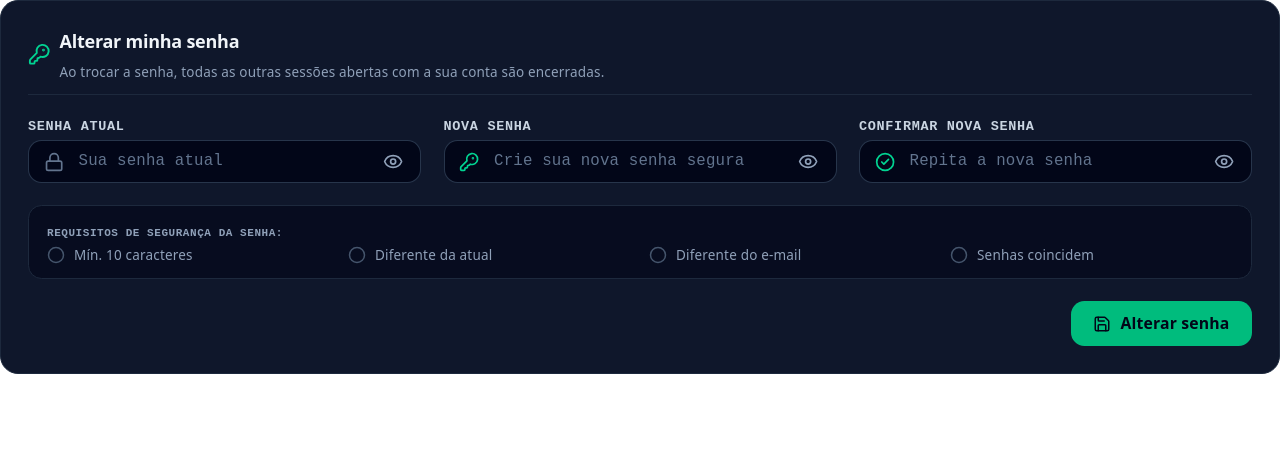
Test: AlterarSenha › valida antes de enviar
Type "senha-antiga-123" into the password field labelled "Senha atual".
click(224, 162); type("senha-antiga-123")  # box [28,140,421,183]
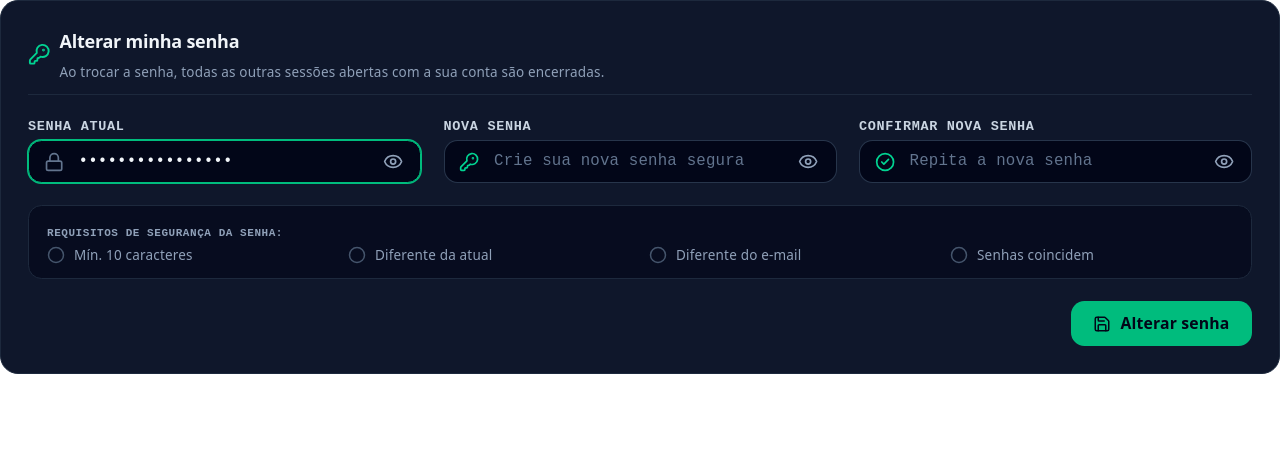
Type "curta" into the password field labelled "Nova senha".
click(640, 162); type("curta")  # box [444,140,836,183]
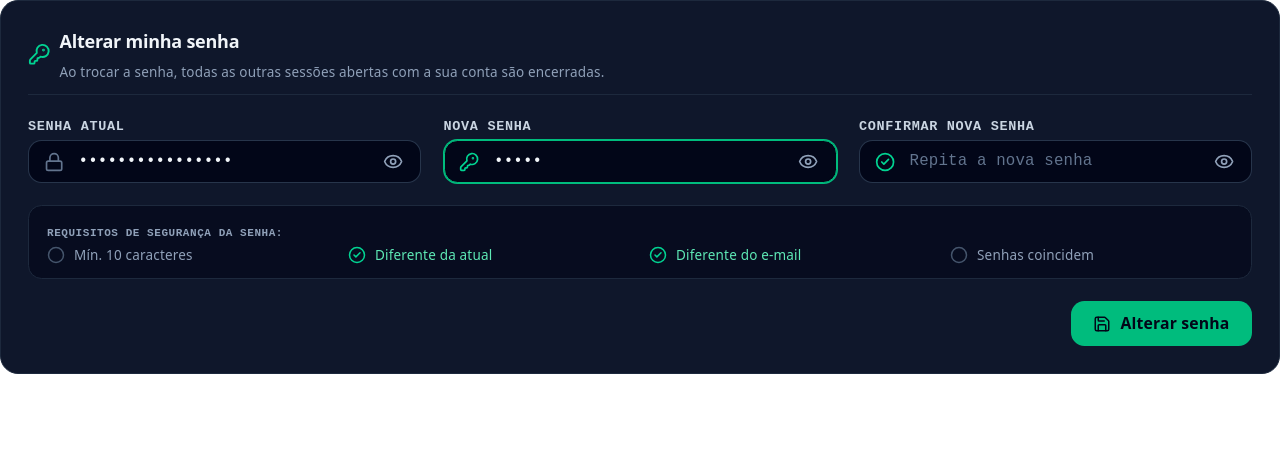
Type "curta" into the password field labelled "Confirmar nova senha".
click(1056, 162); type("curta")  # box [859,140,1252,183]
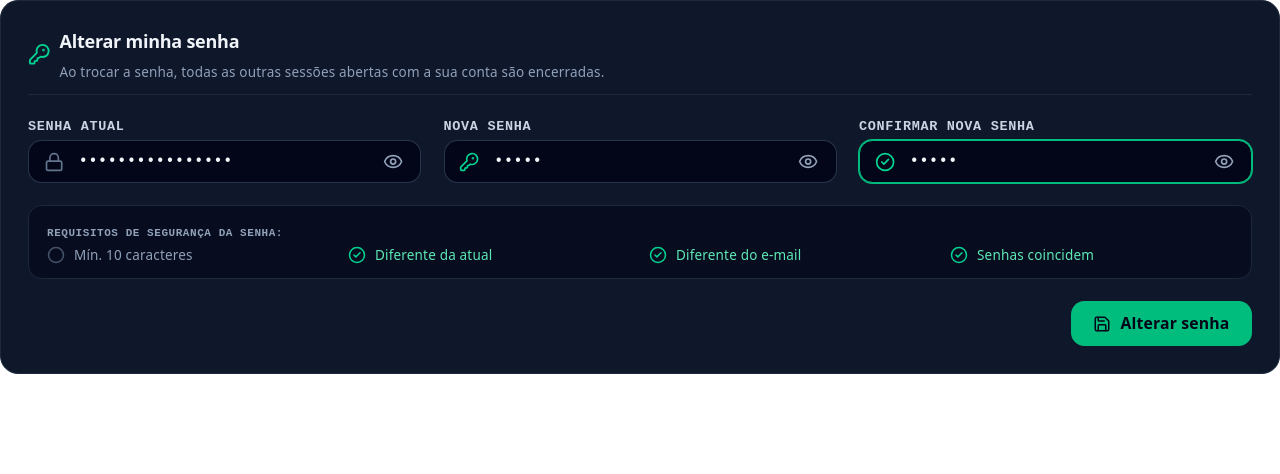
Click the button "Alterar senha".
click(1161, 324)  # box [1071,301,1252,346]
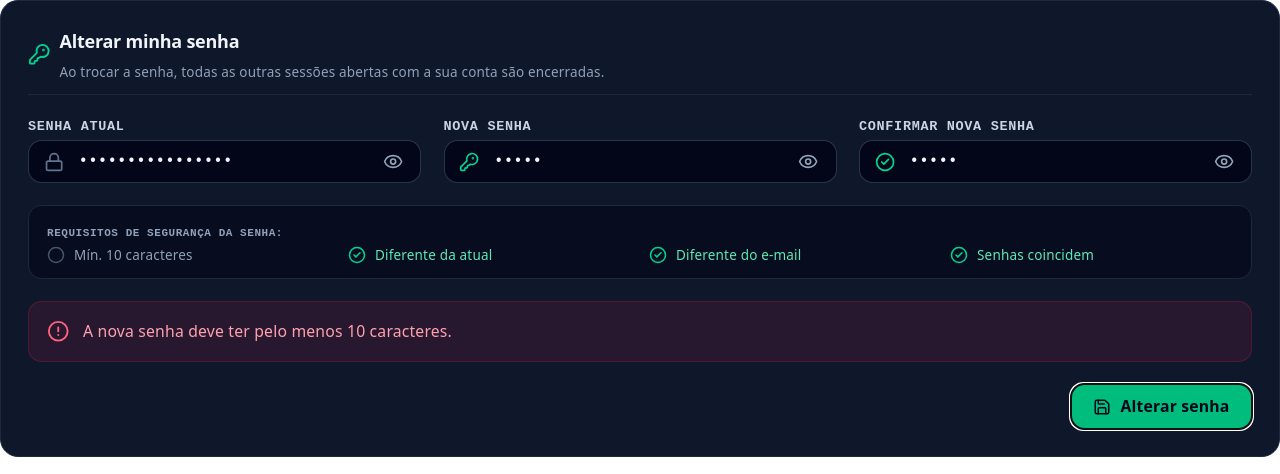
Expected: the message reads "A nova senha deve ter pelo menos 10 caracteres.", [83,320,452,342]
